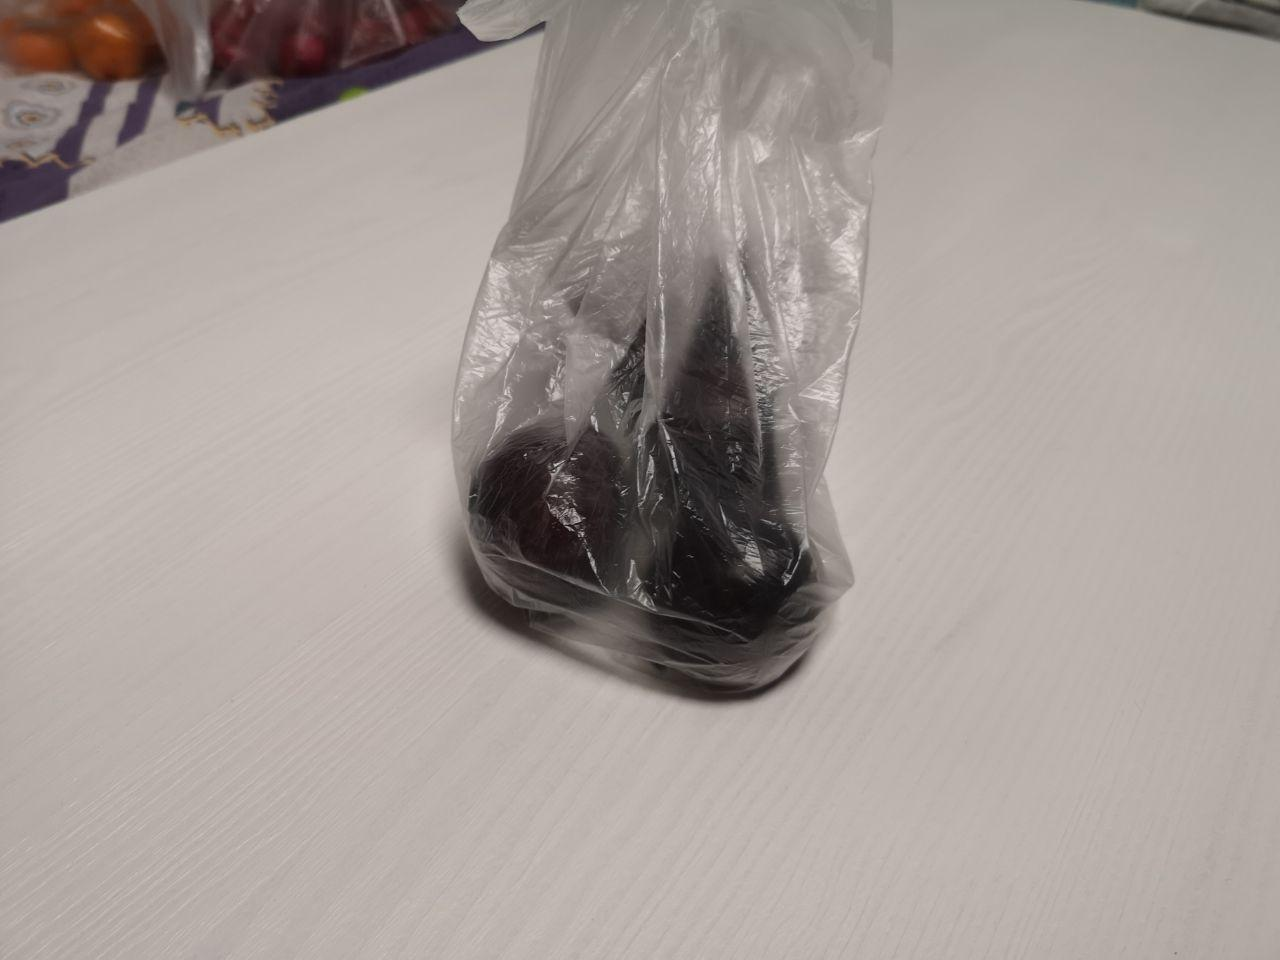plum: (418, 179, 913, 743)
